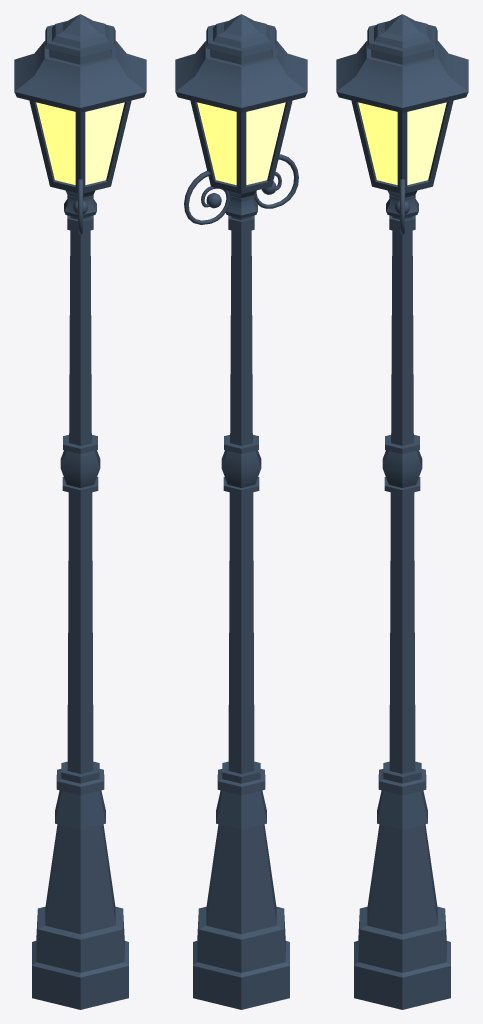
The model's file is V1Parklaterne.fbx.
3 views of the same model, side by side, from view 1: azimuth 90°, elevation 25°; view 2: azimuth 210°, elevation 25°; view 3: azimuth 270°, elevation 25° (orthographic).
Parts seen in each view (by area): view 1: V1Laterne; view 2: V1Laterne; view 3: V1Laterne.
Part boxes in pixels (x1,y1,x2,y2): V1Laterne: (14, 14, 146, 1009); V1Laterne: (175, 14, 307, 1009); V1Laterne: (336, 14, 468, 1009).
Bounding box in the file's own units: 36.43 × 256 × 31.55.
